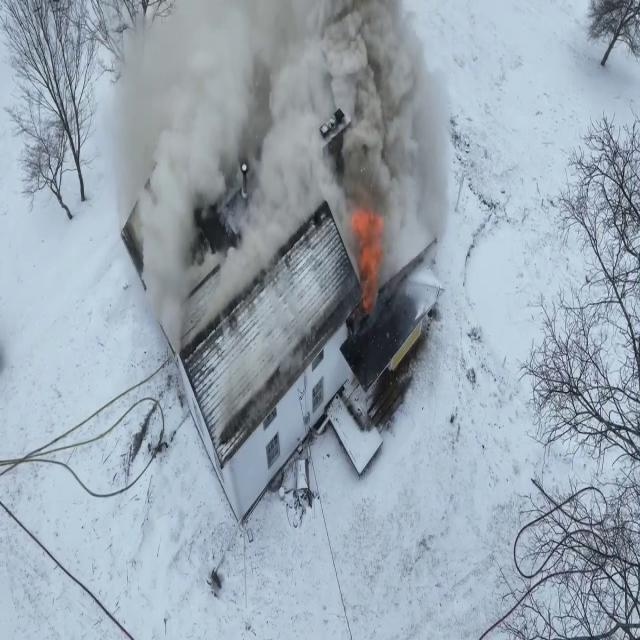Fire: (345, 192, 393, 304)
Smoke: (97, 0, 468, 318)
